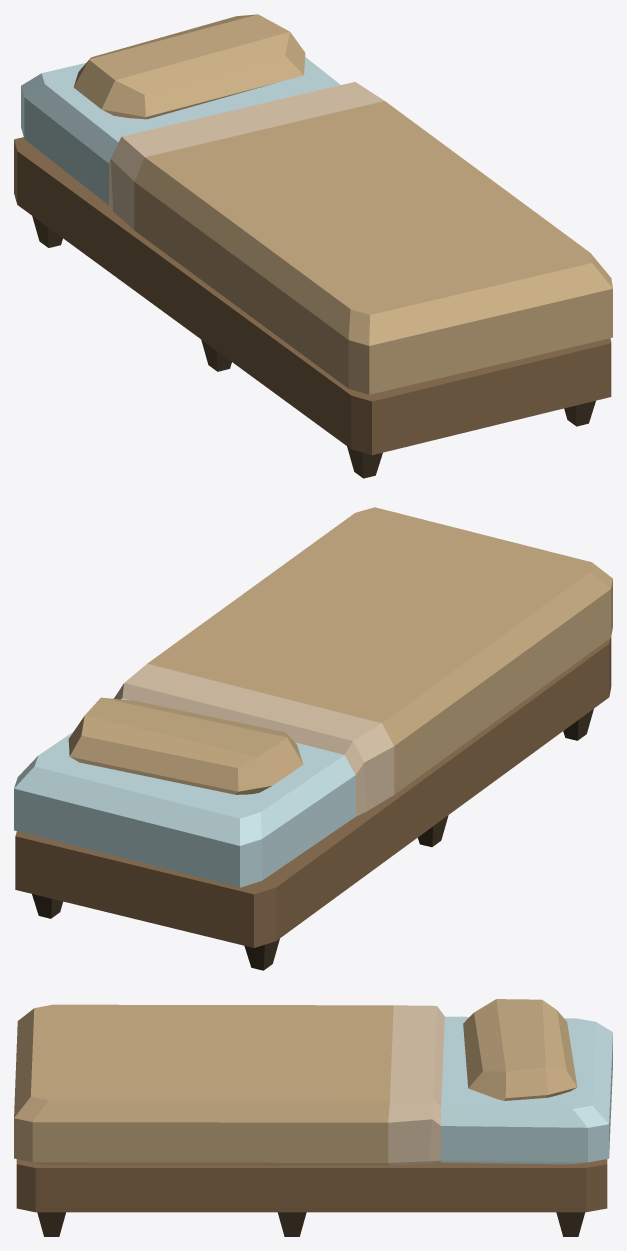
The model's file is BoxBed.glb.
3 views of the same model, one above another, from view 1: azimuth 30°, elevation 25°; view 2: azimuth 150°, elevation 25°; view 3: azimuth 270°, elevation 25° (orthographic). The views are drawn at different scales.
Parts seen in each view (by area): view 1: BoxBed; view 2: BoxBed; view 3: BoxBed.
Part boxes in pixels (x1,y1,x2,y2): BoxBed: (14,14,612,478); BoxBed: (14,507,612,970); BoxBed: (14,999,612,1236).
Size of the model in its own units: 0.9186 by 0.6461 by 2.21.
1 material, 1 textured.
